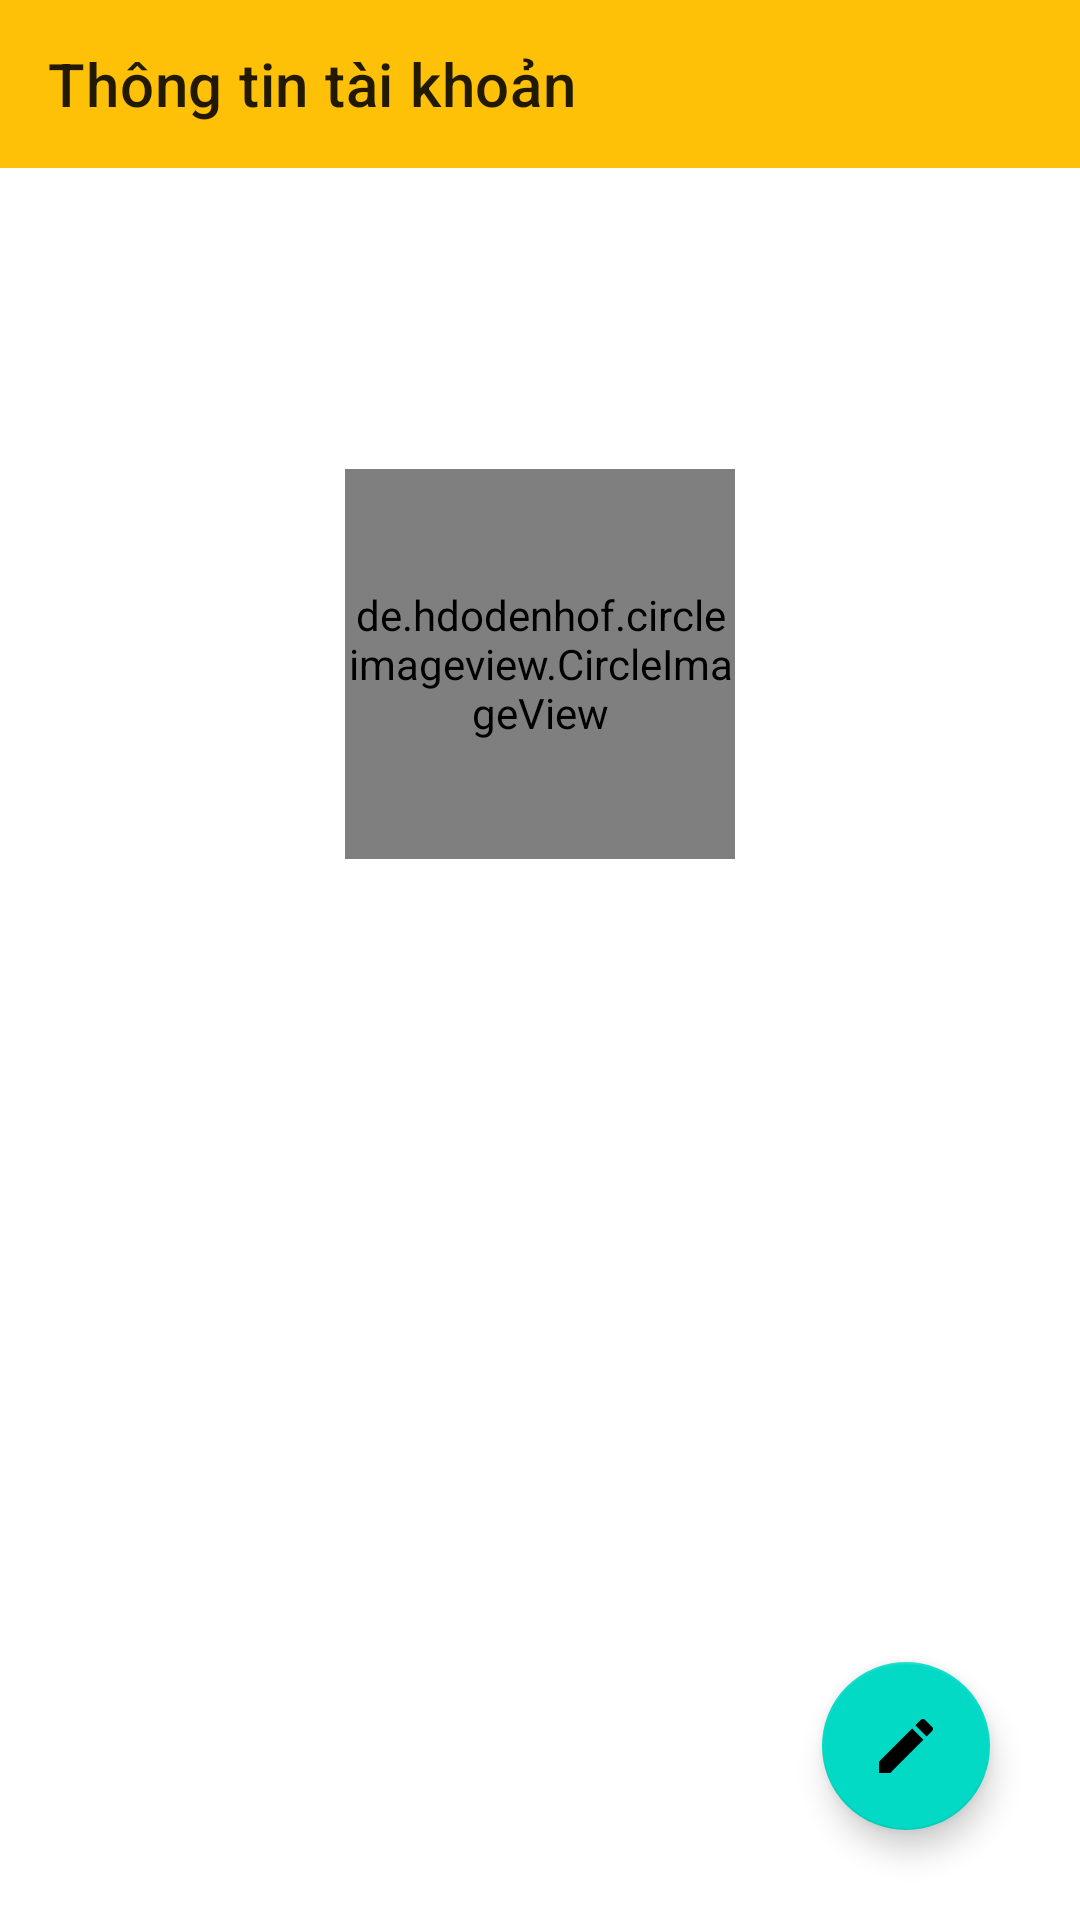

Where to tap for icons on this 1080x1920 app screen, as point (x, y):
edit: point (906, 1746)
